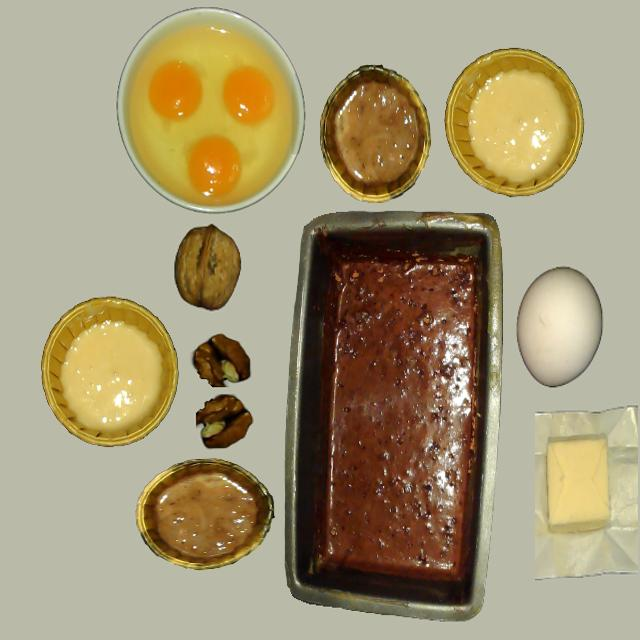Egg: (187, 135, 243, 196), (148, 62, 202, 121), (222, 67, 274, 125)
Walnut: (174, 225, 241, 308)
